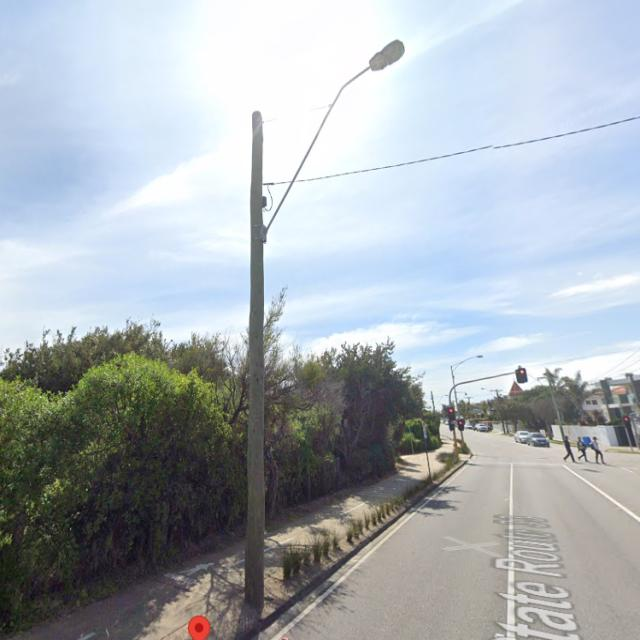crossarm: (490, 390, 503, 392)
steel-pole: (450, 366, 465, 448), (448, 395, 458, 459), (625, 426, 633, 452)
streetlight: (262, 38, 406, 241), (452, 355, 484, 372), (481, 388, 498, 400)
timber-pole: (242, 110, 264, 612), (496, 389, 506, 435), (431, 391, 435, 412)
traffic-light: (515, 368, 527, 383), (448, 406, 455, 421), (624, 415, 631, 429), (458, 418, 465, 431)
